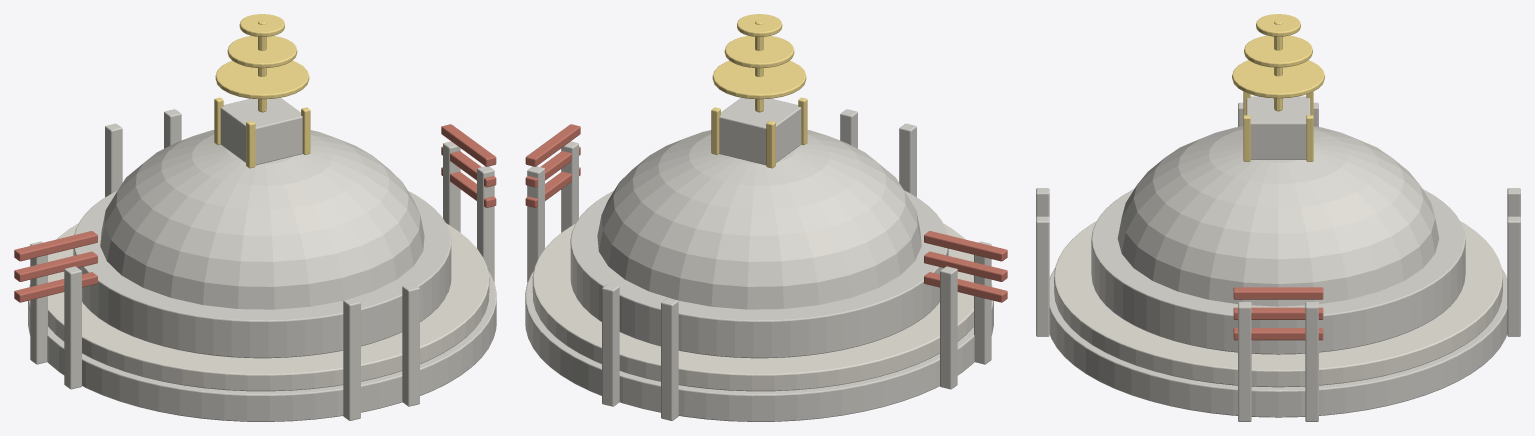
File: stupa.glb
The picture shows the model from 3 angles, left to right: view 1: azimuth 30°, elevation 25°; view 2: azimuth 150°, elevation 25°; view 3: azimuth 270°, elevation 25°; orthographic projection.
Parts seen in each view (by area): view 1: Cylinder; view 2: Cylinder; view 3: Cylinder.
Part boxes in pixels (left/top/right/bottom): Cylinder: left=14, top=14, right=496, bottom=421; Cylinder: left=525, top=14, right=1007, bottom=421; Cylinder: left=1036, top=14, right=1520, bottom=421.
Bounding box in the file's own units: 6.99 × 4.58 × 6.48.
